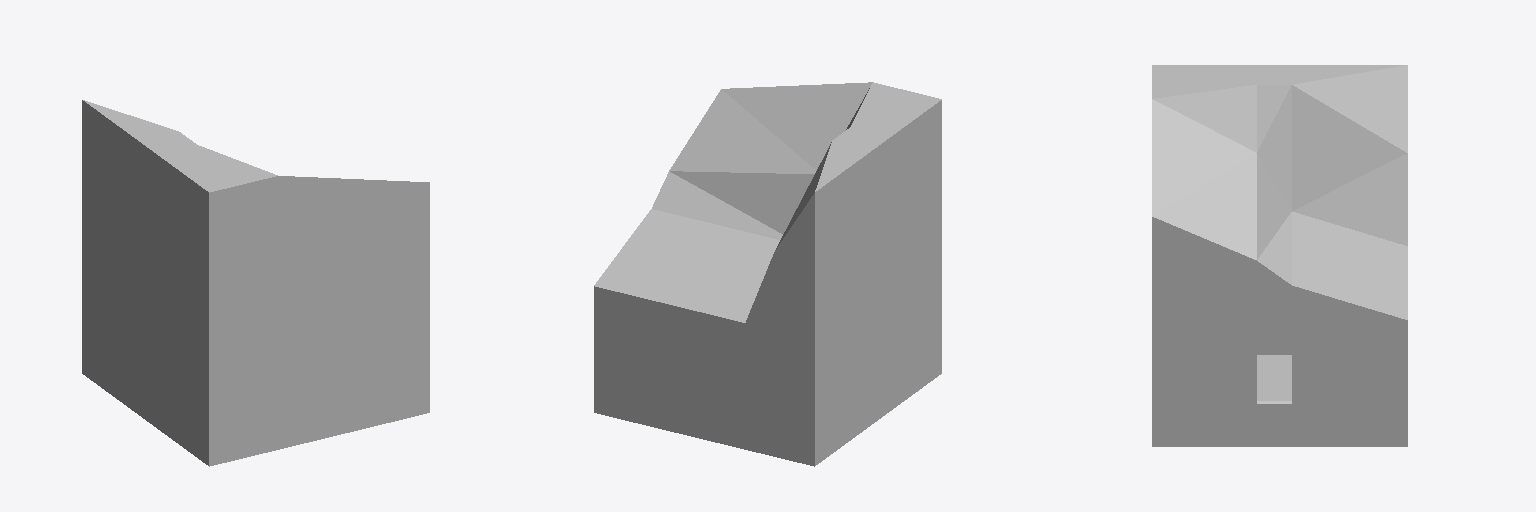
File: RuinedBuilding.obj
The picture shows the model from 3 angles: view 1: azimuth 30°, elevation 25°; view 2: azimuth 150°, elevation 25°; view 3: azimuth 270°, elevation 25°; orthographic projection.
Parts seen in each view (by area): view 1: Building_1; view 2: Building_1; view 3: Building_1.
Boxes of the visible parts, x1,y1,x2,y2 form: Building_1: [82, 100, 429, 466]; Building_1: [594, 82, 941, 466]; Building_1: [1152, 65, 1407, 446].
Size of the model in its own units: 11.93 by 14.12 by 11.93.